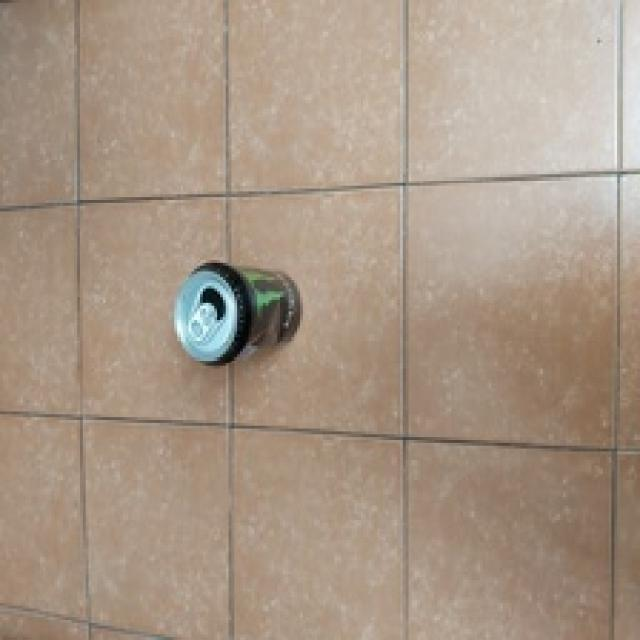recyclable: (172, 258, 303, 368)
